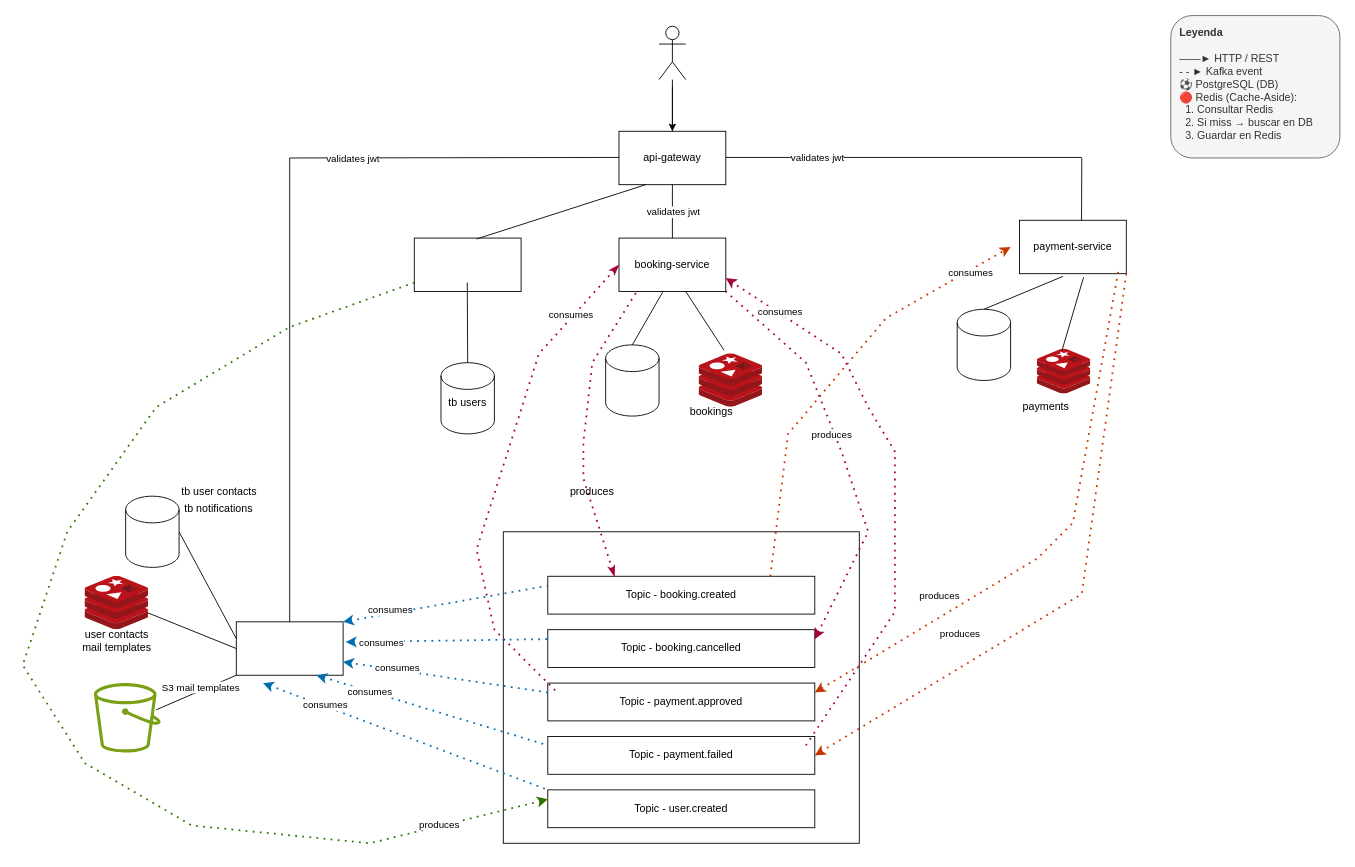
Some shapes in this 1355 by 867 pixel diagram are drawn without their labels. Here are the shapes that lost their labels. From the top down, the box of each, then its label:
(413, 237, 521, 291): auth-service
(956, 308, 1011, 380): tb payments
(605, 344, 659, 416): tb bookings
(235, 621, 343, 675): notification-service
(502, 531, 859, 843): Kafka broker
